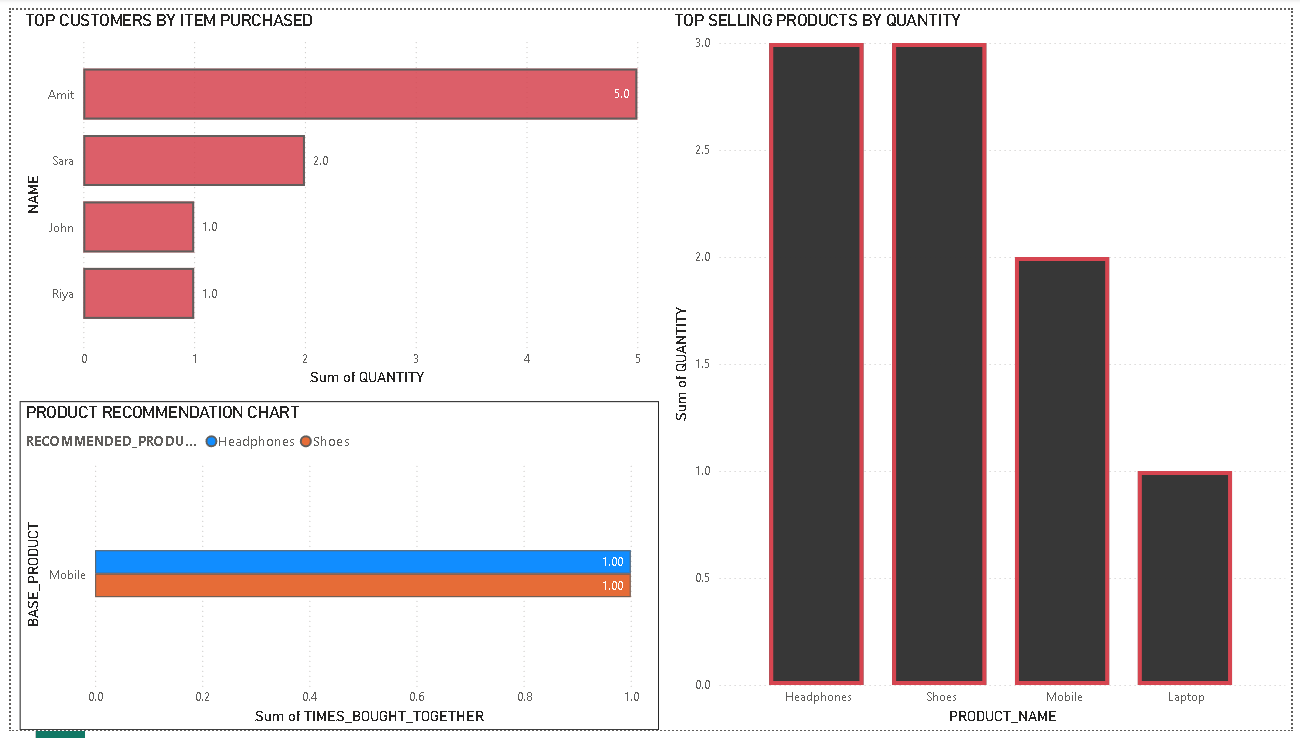

What the dashboard file says about the page in this screenshot:
{"tool":"powerbi","page":{"name":"Page 1","canvas":[1280,720],"ordinal":0},"visuals":[{"type":"barChart","title":"TOP CUSTOMERS BY ITEM PURCHASED","fields":{"Y":["FACT_SALES.QUANTITY"],"Category":["DIM_CUSTOMER.NAME"]},"box":[8.7,0,639.4,380.7],"z":0},{"type":"clusteredBarChart","title":"PRODUCT RECOMMENDATION CHART","fields":{"Category":["Query1.BASE_PRODUCT"],"Series":["Query1.RECOMMENDED_PRODUCT"],"Y":["Query1.TIMES_BOUGHT_TOGETHER"]},"box":[9,391,639,329],"z":1},{"type":"clusteredColumnChart","title":"TOP SELLING PRODUCTS BY QUANTITY","fields":{"Category":["DIM_PRODUCT.PRODUCT_NAME"],"Y":["FACT_SALES.QUANTITY"]},"box":[658.1,0,622,719],"z":2}]}

Visuals, with their boxes in screenshot pixels (x1, y1, x2, y2), scaled from the page's 1280x720 canvas onto the 1300x738 screenshot:
"TOP CUSTOMERS BY ITEM PURCHASED" barChart: {"x1": 9, "y1": 0, "x2": 658, "y2": 390}
"PRODUCT RECOMMENDATION CHART" clusteredBarChart: {"x1": 9, "y1": 401, "x2": 658, "y2": 737}
"TOP SELLING PRODUCTS BY QUANTITY" clusteredColumnChart: {"x1": 668, "y1": 0, "x2": 1299, "y2": 737}
